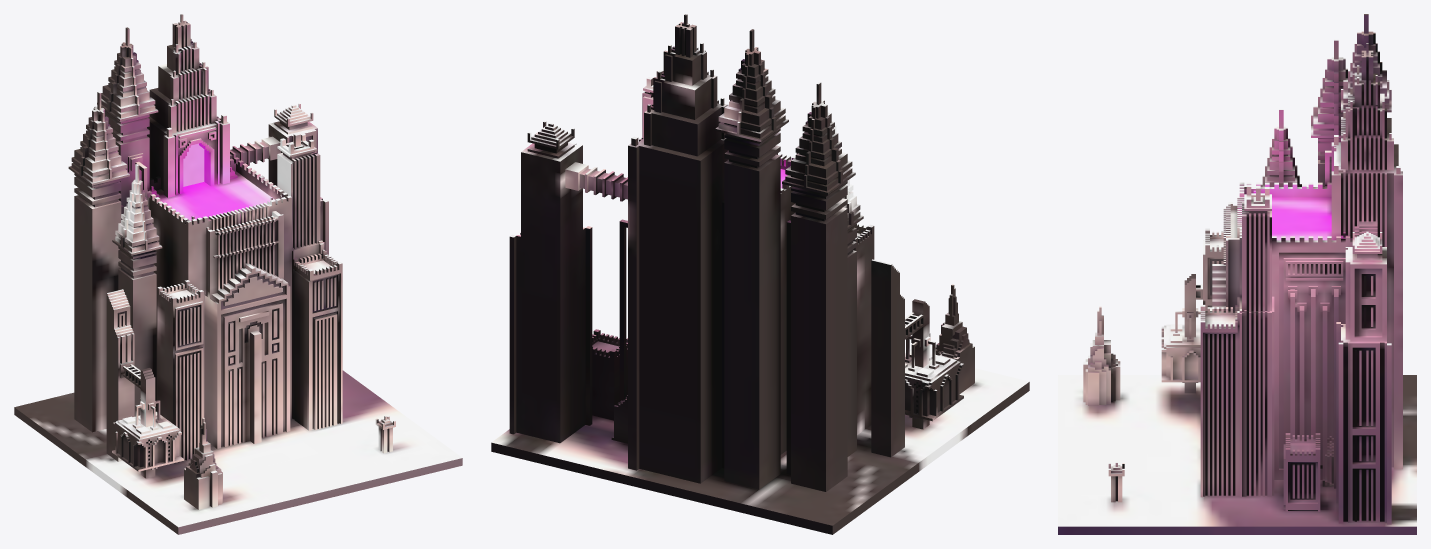
The model's file is castle_new_old.glb.
3 renders of one model, left to right at view 1: azimuth 30°, elevation 25°; view 2: azimuth 150°, elevation 25°; view 3: azimuth 270°, elevation 25°, orthographic. The views are drawn at different scales.
Parts seen in each view (by area): view 1: castle_voxel_save_white_export; view 2: castle_voxel_save_white_export; view 3: castle_voxel_save_white_export.
Part boxes in pixels (left/top/right/bottom): castle_voxel_save_white_export: left=14, top=14, right=462, bottom=534; castle_voxel_save_white_export: left=491, top=14, right=1029, bottom=534; castle_voxel_save_white_export: left=1058, top=14, right=1416, bottom=534.
Bounding box in the file's own units: 156 × 200 × 156.
1 material, 1 textured.
